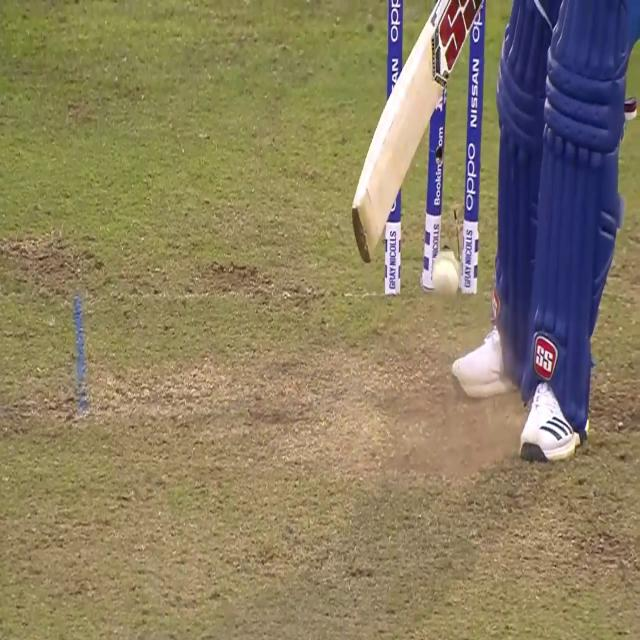ball: (432, 246, 462, 303)
